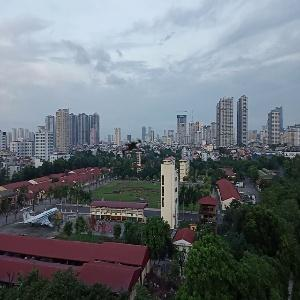drone: (114, 131, 153, 170)
